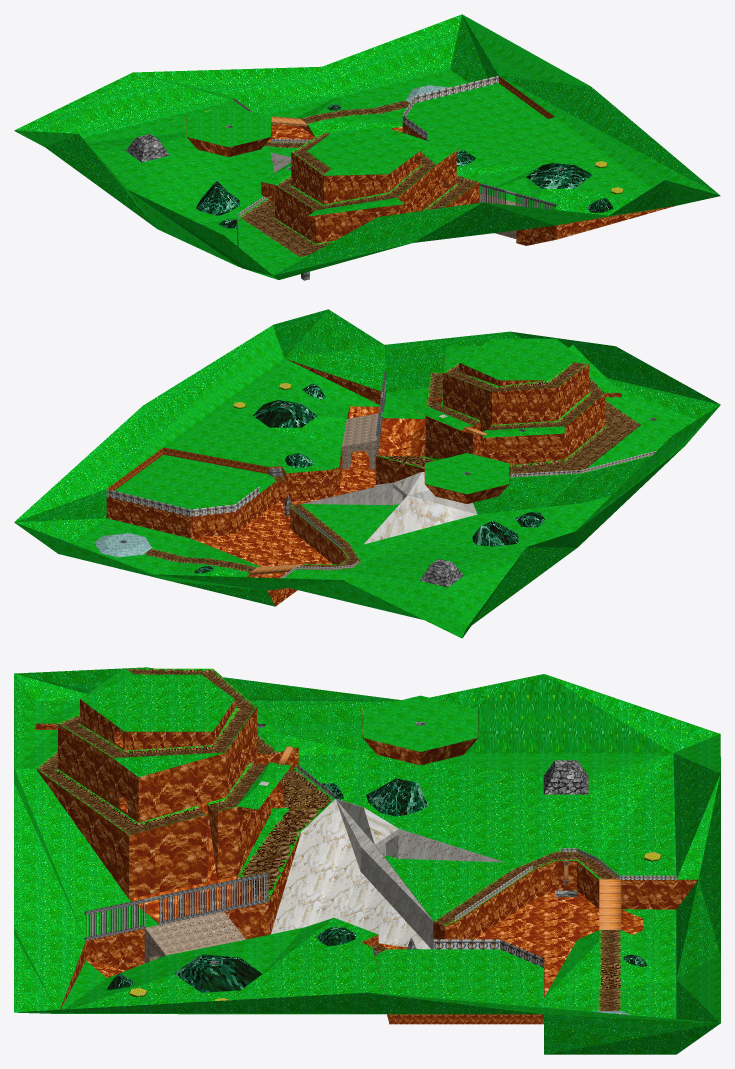
File: Bob-omb Battlefield 2.obj
3 views of the same model, one above another, from view 1: azimuth 30°, elevation 25°; view 2: azimuth 150°, elevation 25°; view 3: azimuth 270°, elevation 25° (orthographic). The views are drawn at different scales.
Visible parts, largest first — view 1: Shape_IndexedFaceSet.009; view 2: Shape_IndexedFaceSet.009; view 3: Shape_IndexedFaceSet.009.
Part boxes in pixels (<box>): Shape_IndexedFaceSet.009: <box>14,14,720,280</box>; Shape_IndexedFaceSet.009: <box>14,309,720,638</box>; Shape_IndexedFaceSet.009: <box>14,667,720,1054</box>.
Bounding box in the file's own units: 16.39 × 4.71 × 16.39.
21 materials, 21 textured.
